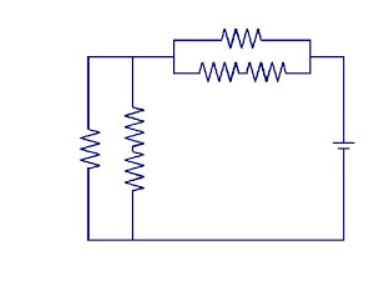resistor: (73, 113, 106, 186), (210, 17, 268, 53)
